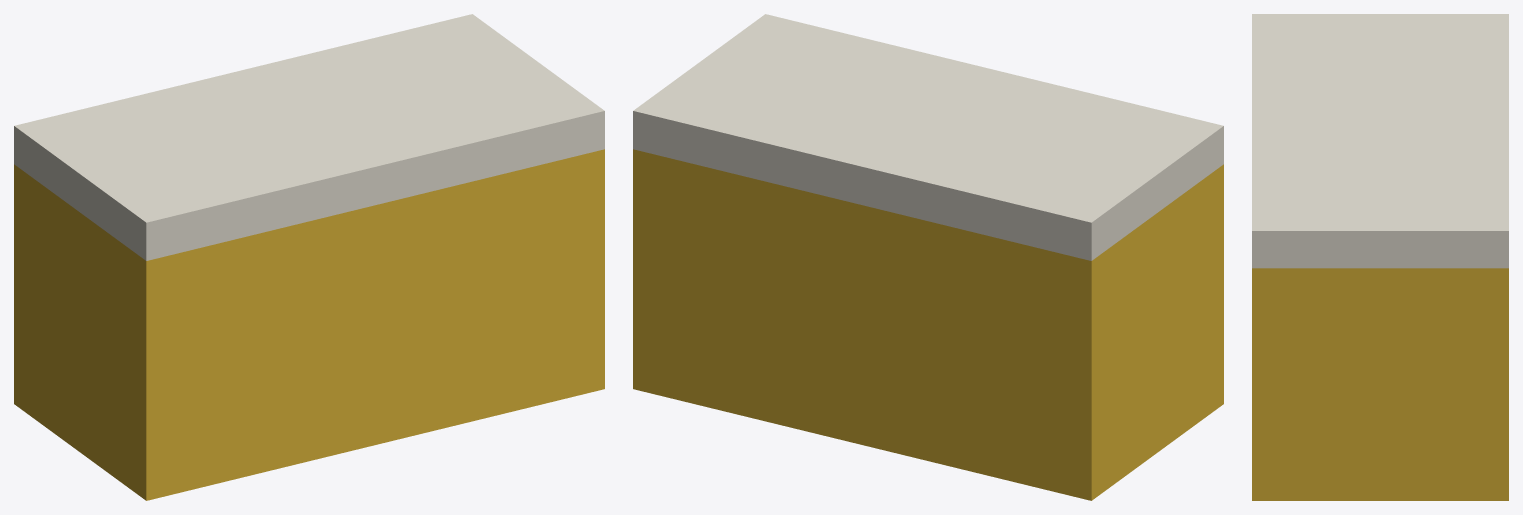
The model's file is FD_Butter_01.glb.
3 views of the same model, side by side, from view 1: azimuth 30°, elevation 25°; view 2: azimuth 150°, elevation 25°; view 3: azimuth 270°, elevation 25° (orthographic). The views are drawn at different scales.
Visible parts, largest first — view 1: FD_Butter_01; view 2: FD_Butter_01; view 3: FD_Butter_01.
Part boxes in pixels (x1=…): FD_Butter_01: x1=14, y1=14, x2=604, y2=500; FD_Butter_01: x1=633, y1=14, x2=1223, y2=500; FD_Butter_01: x1=1252, y1=14, x2=1508, y2=500.
Bounding box in the file's own units: 0.1 × 0.058 × 0.05.
Materials: 1 (1 with a texture image).
